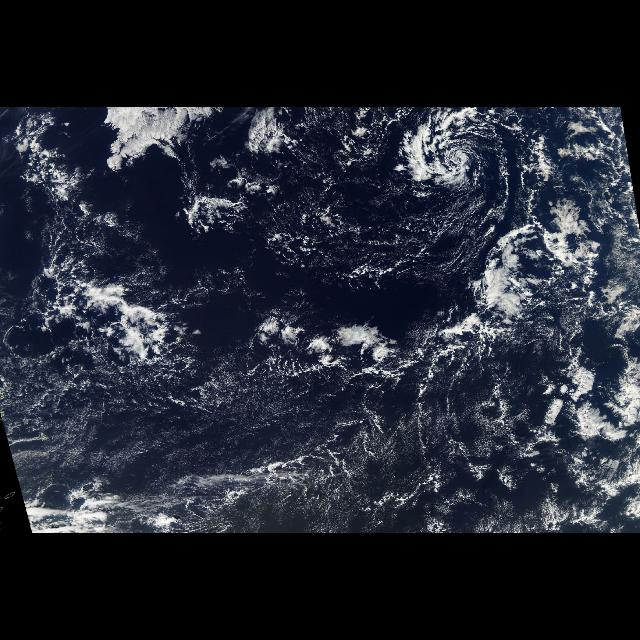Gravel: (307, 309, 639, 529), (264, 108, 404, 288)
Sugar: (1, 357, 542, 533)
